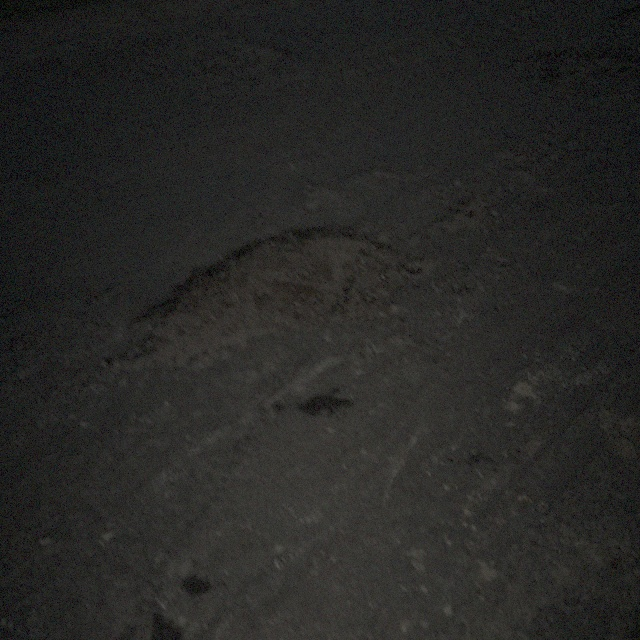pothole: (110, 219, 422, 373), (516, 44, 639, 94), (188, 38, 295, 73)
